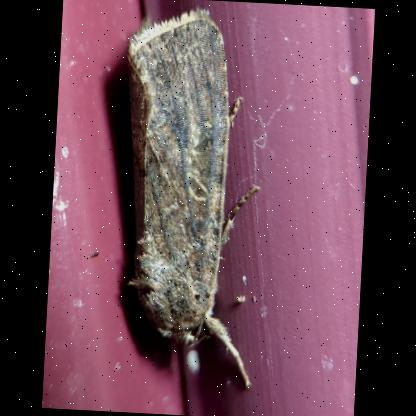Fall Armyworm Moth: (105, 0, 275, 393)
